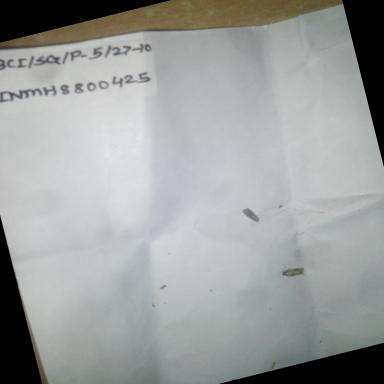pbw: (276, 254, 313, 282), (236, 200, 265, 228)
